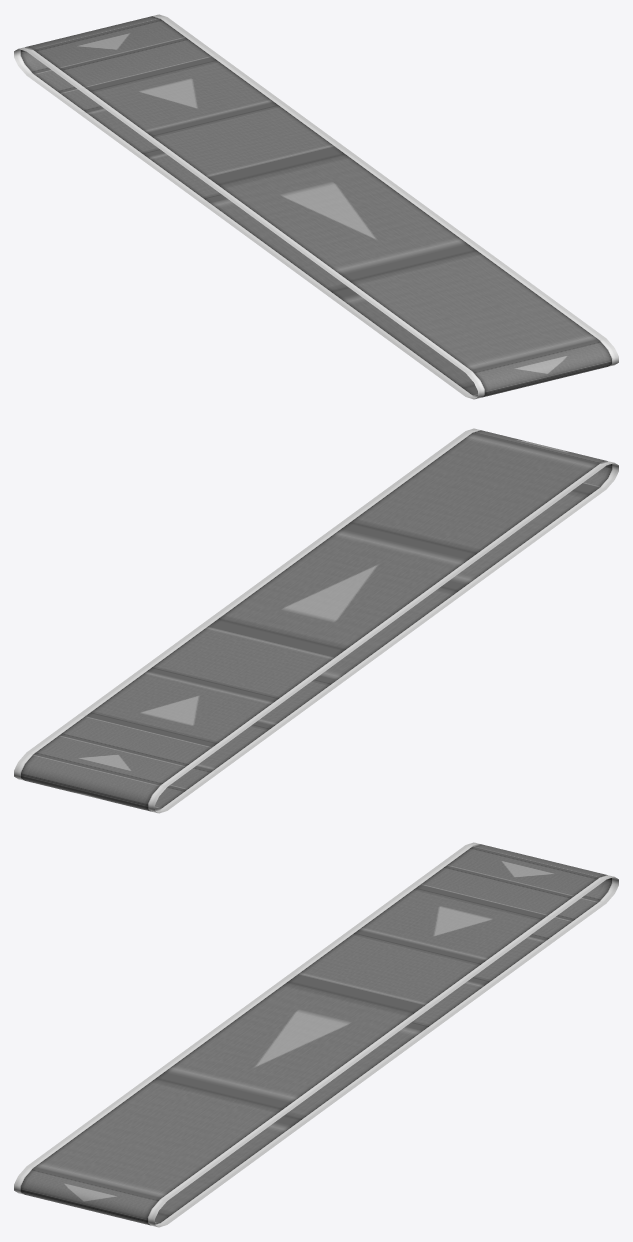
File: belt_MESH.dae
3 views of the same model, one above another, from view 1: azimuth 30°, elevation 25°; view 2: azimuth 150°, elevation 25°; view 3: azimuth 330°, elevation 25° (orthographic).
Visible parts, largest first — view 1: belt_MESH; view 2: belt_MESH; view 3: belt_MESH.
Part boxes in pixels (left/top/right/bottom): belt_MESH: left=14, top=14, right=618, bottom=399; belt_MESH: left=14, top=428, right=618, bottom=813; belt_MESH: left=14, top=842, right=618, bottom=1227.
Size of the model in its own units: 12.32 by 2 by 70.16.
